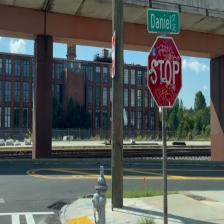Stop-sign: (146, 34, 184, 108)
